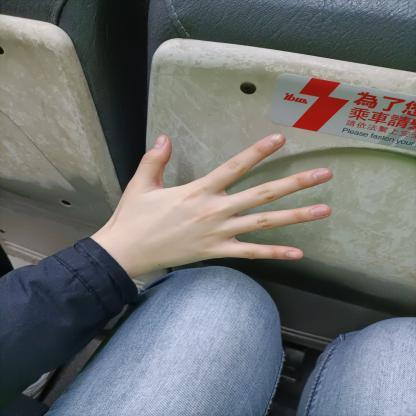bare_hand: (80, 112, 344, 284)
